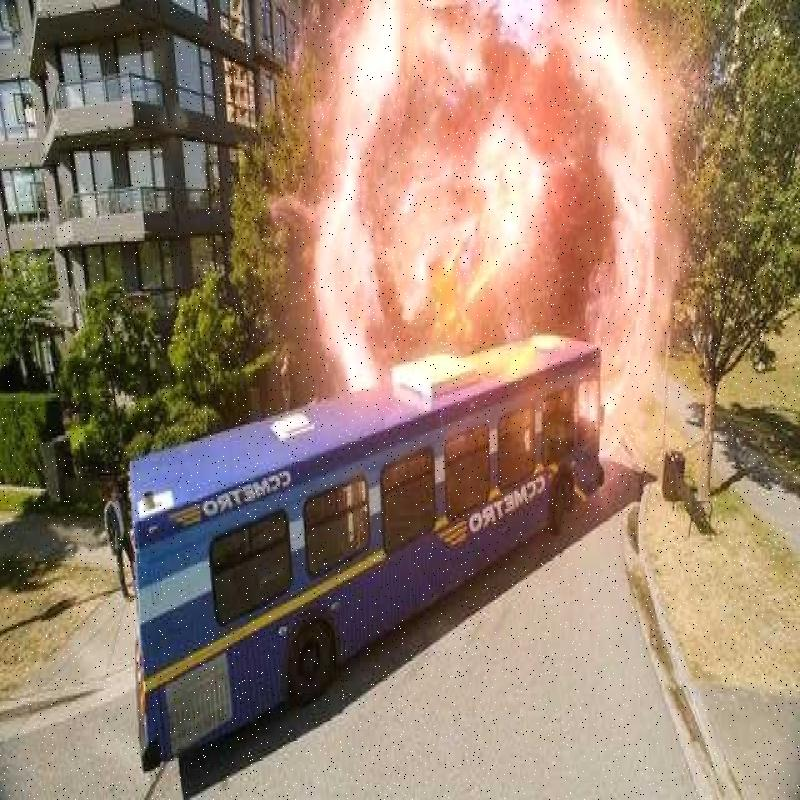bus: (112, 289, 626, 785)
